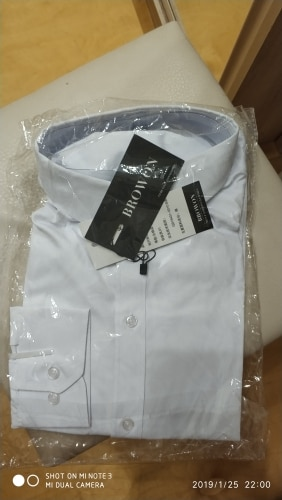shirts: (10, 83, 253, 446)
